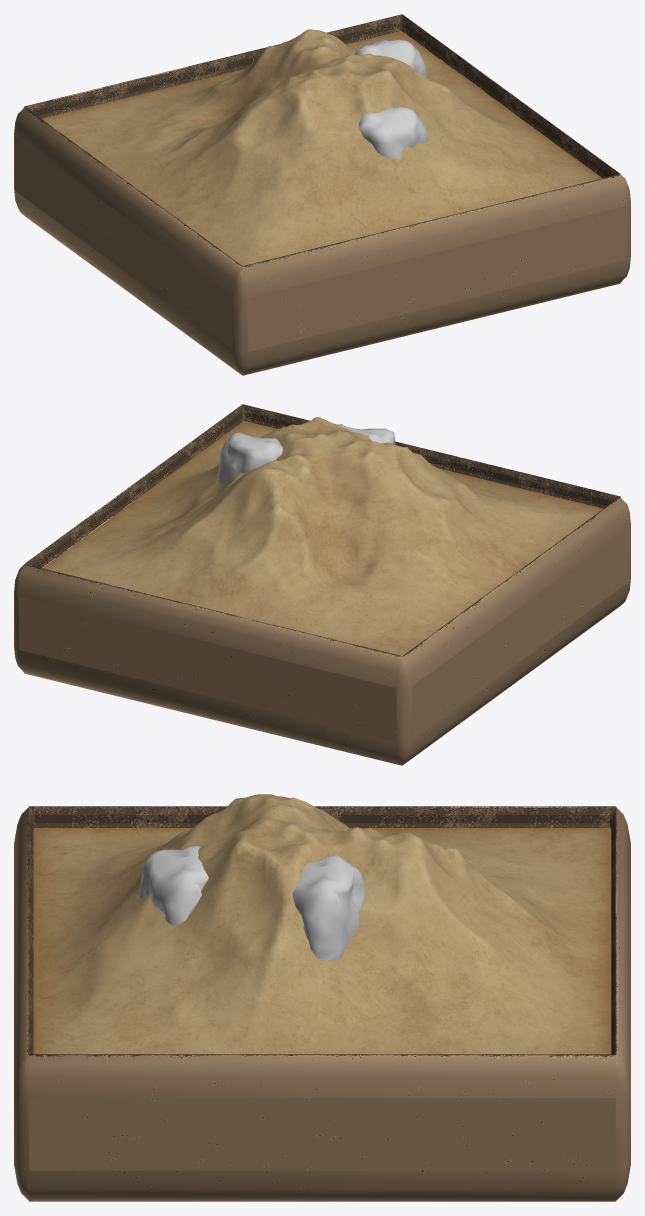
File: Террейн2.fbx
3 renders of one model, top to bottom at view 1: azimuth 30°, elevation 25°; view 2: azimuth 150°, elevation 25°; view 3: azimuth 270°, elevation 25°, orthographic. The views are drawn at different scales.
Visible parts, largest first — view 1: Cube, Landscape, Aset_nature_rock_M_vecsbidqx_LOD5_2, Aset_nature_rock_M_vecsbidqx_LOD5_1; view 2: Cube, Landscape, Aset_nature_rock_M_vecsbidqx_LOD5_1, Aset_nature_rock_M_vecsbidqx_LOD5_2; view 3: Landscape, Cube, Aset_nature_rock_M_vecsbidqx_LOD5_1, Aset_nature_rock_M_vecsbidqx_LOD5_2.
Part boxes in pixels (x1,y1,x2,y2): Cube: [14, 14, 630, 375]; Landscape: [42, 29, 601, 265]; Aset_nature_rock_M_vecsbidqx_LOD5_2: [359, 107, 428, 158]; Aset_nature_rock_M_vecsbidqx_LOD5_1: [355, 39, 427, 78]; Cube: [14, 404, 630, 765]; Landscape: [43, 417, 602, 655]; Aset_nature_rock_M_vecsbidqx_LOD5_1: [216, 432, 282, 484]; Aset_nature_rock_M_vecsbidqx_LOD5_2: [337, 424, 395, 444]; Landscape: [33, 794, 611, 1054]; Cube: [14, 806, 630, 1201]; Aset_nature_rock_M_vecsbidqx_LOD5_1: [292, 855, 366, 961]; Aset_nature_rock_M_vecsbidqx_LOD5_2: [140, 846, 208, 925].
Size of what is drawn, in the model's own units: 814 by 379 by 814.
